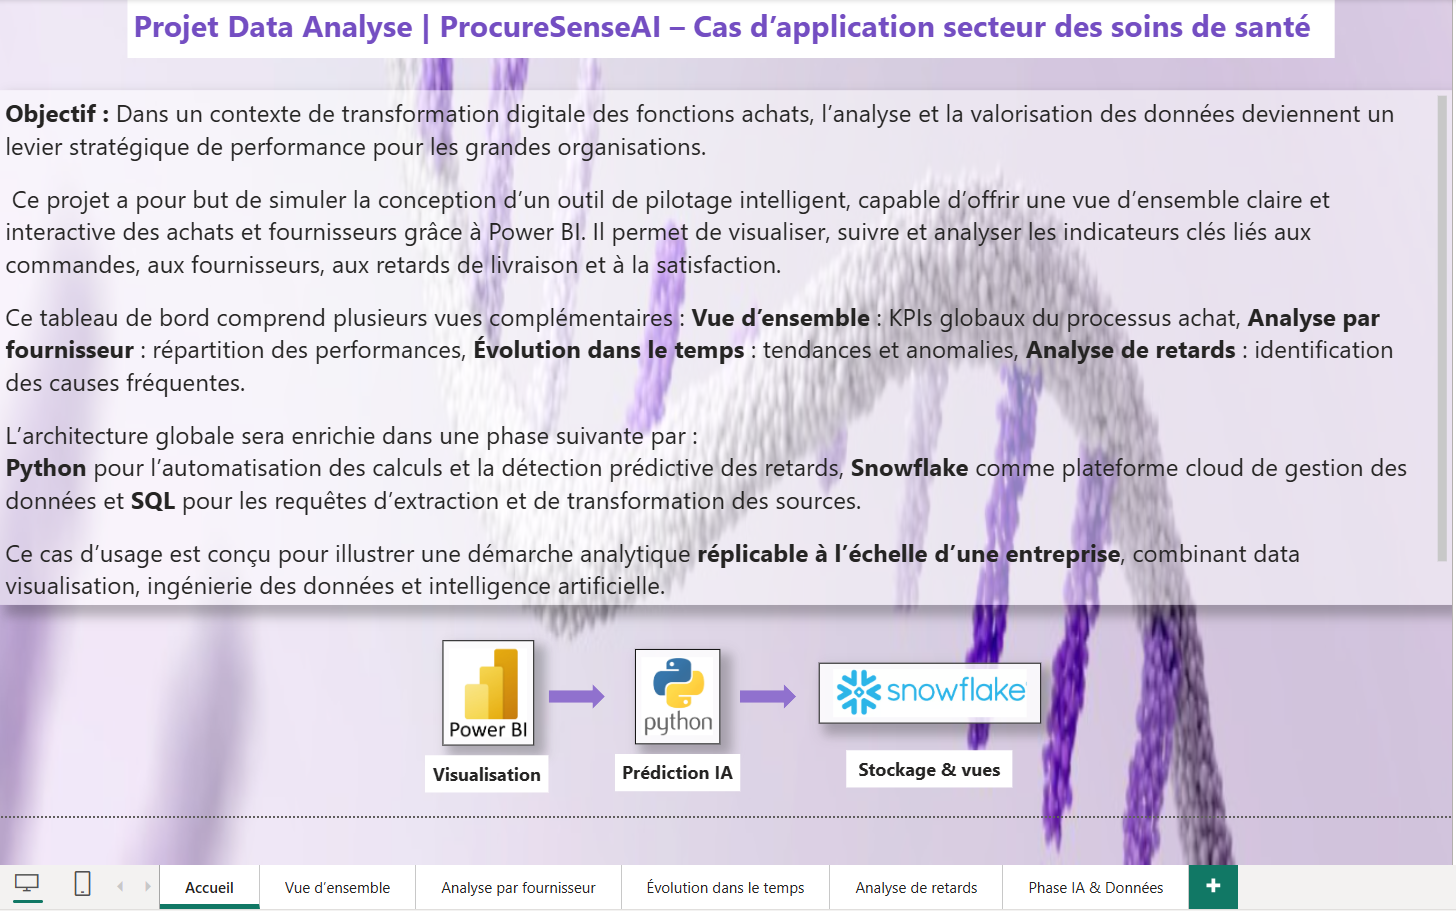

Layout of this report page (visuals, bound fields, positions):
{"tool":"powerbi","page":{"name":"Accueil","canvas":[1280,720],"ordinal":0},"visuals":[{"type":"textbox","box":[112.4,0,1064.3,51.8],"z":0},{"type":"textbox","box":[0,80.9,1280.3,453.6],"z":1000},{"type":"image","box":[389.7,565.1,80.4,92.5],"z":3000},{"type":"image","box":[722,585,196.1,54],"z":4000},{"type":"image","box":[559.2,573.1,74.9,83.7],"z":5000},{"type":"textbox","box":[541.5,665.6,110.2,33.1],"z":6000},{"type":"textbox","box":[374.3,666.5,109.1,33.1],"z":7000},{"type":"textbox","box":[746.2,662.1,146.5,33.1],"z":8000},{"type":"shape","box":[483.1,603.9,49.6,22],"z":9000},{"type":"shape","box":[651.7,603.9,49.6,22],"z":10000}]}

Visuals, with their boxes on the page's 1280x720 design canvas (x1, y1, x2, y2). These are canvas units, not pixel positions in the 1456x911 screenshot, which may show the page scaled, cropped or inside an application window:
textbox: BBox(112, 0, 1177, 52)
textbox: BBox(0, 81, 1280, 534)
image: BBox(390, 565, 470, 658)
image: BBox(722, 585, 918, 639)
image: BBox(559, 573, 634, 657)
textbox: BBox(542, 666, 652, 699)
textbox: BBox(374, 666, 483, 700)
textbox: BBox(746, 662, 893, 695)
shape: BBox(483, 604, 533, 626)
shape: BBox(652, 604, 701, 626)
